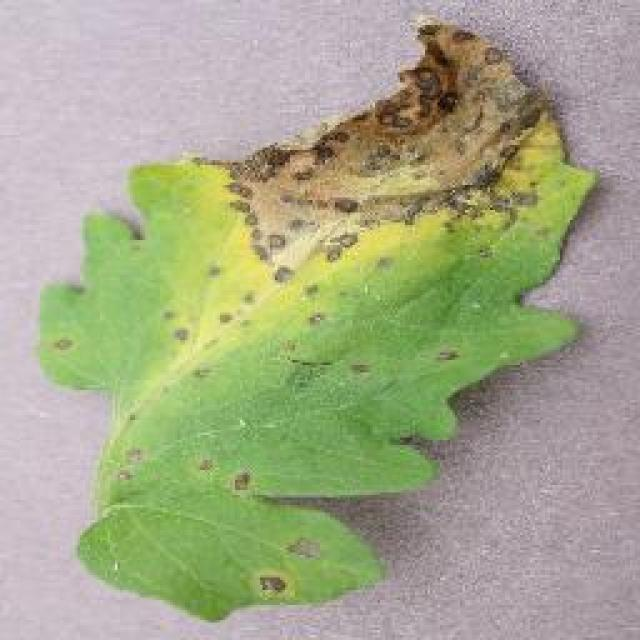Tomato Septoria spot leaf: (44, 17, 592, 620)
